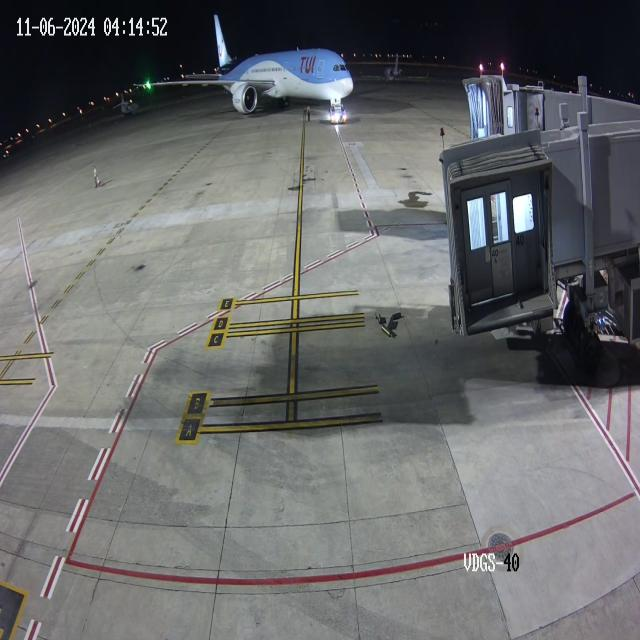bridge: (490, 72, 546, 135)
plane: (127, 1, 360, 126)
window: (330, 61, 350, 73)
